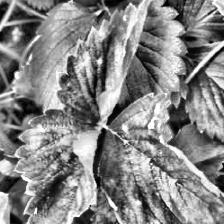Powdery Mildew Leaf: (95, 90, 224, 224), (55, 0, 150, 124), (11, 108, 101, 224)
